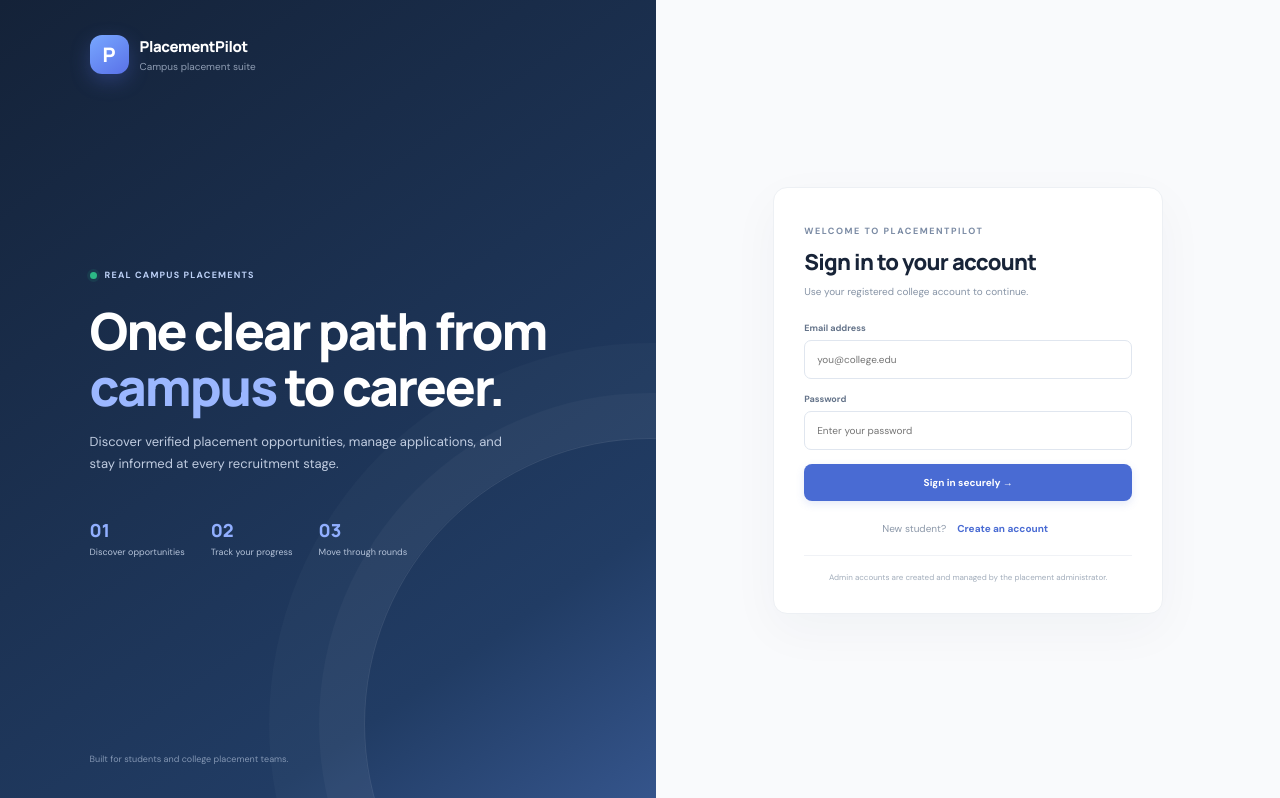
Test: PlacementPilot application flows (API mocked) › keeps portal navigation protected and logs an authenticated student out
Expected: the heading "Sign in to your account" is shown, [804,246,1036,276]
Type "student@example.test" into the field labelled "Email address" at coordinates (968, 359), box [804,340,1132,378]
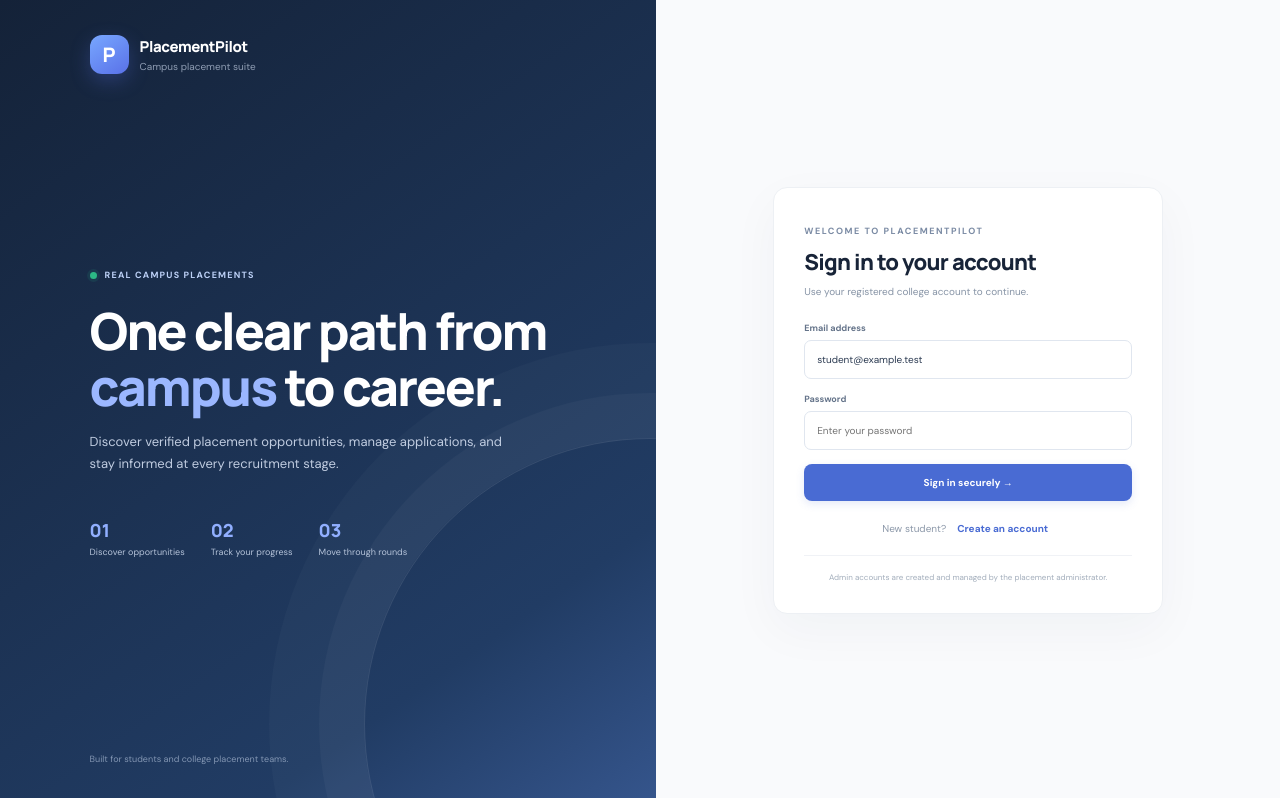
Type "SafeTestPassword123!" into the password field labelled "Password" at coordinates (968, 430), box [804,410,1132,450]
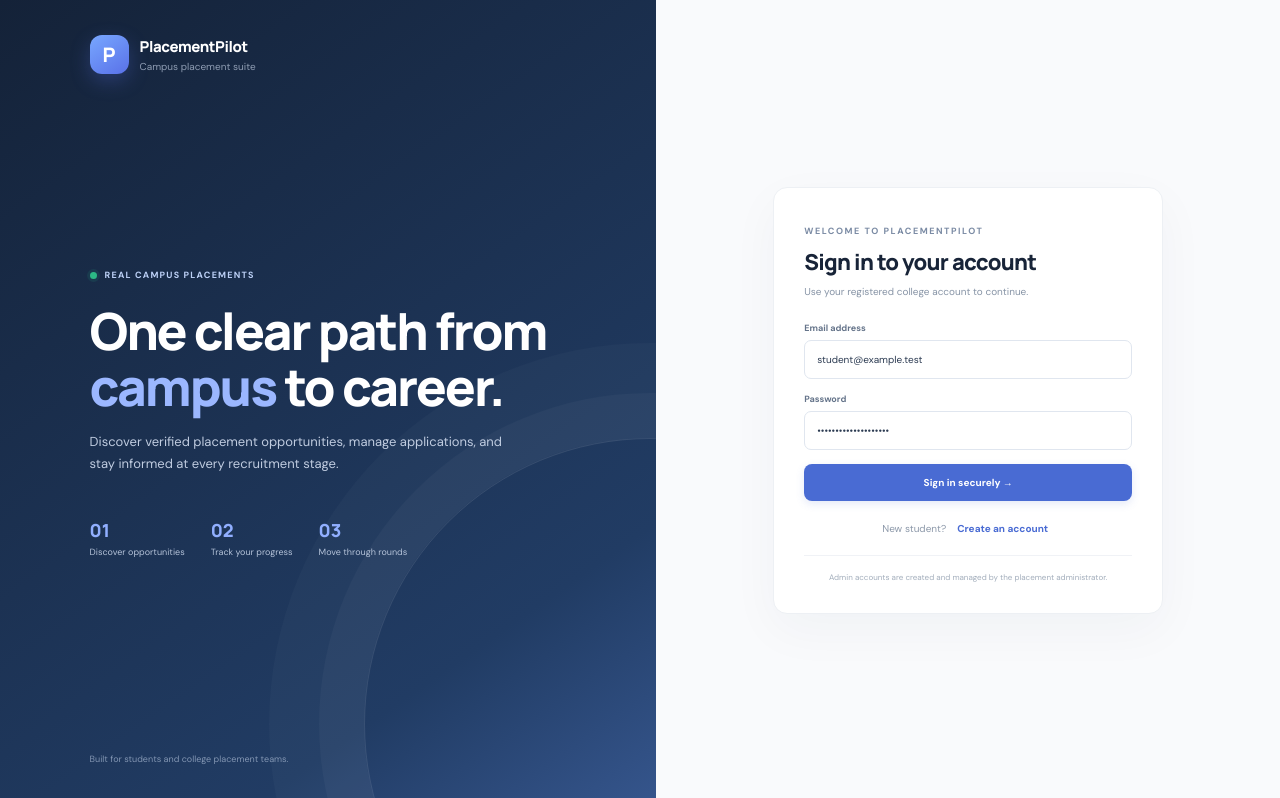
Click the button "Sign in securely →" at coordinates (968, 482), box [804,464,1132,500]
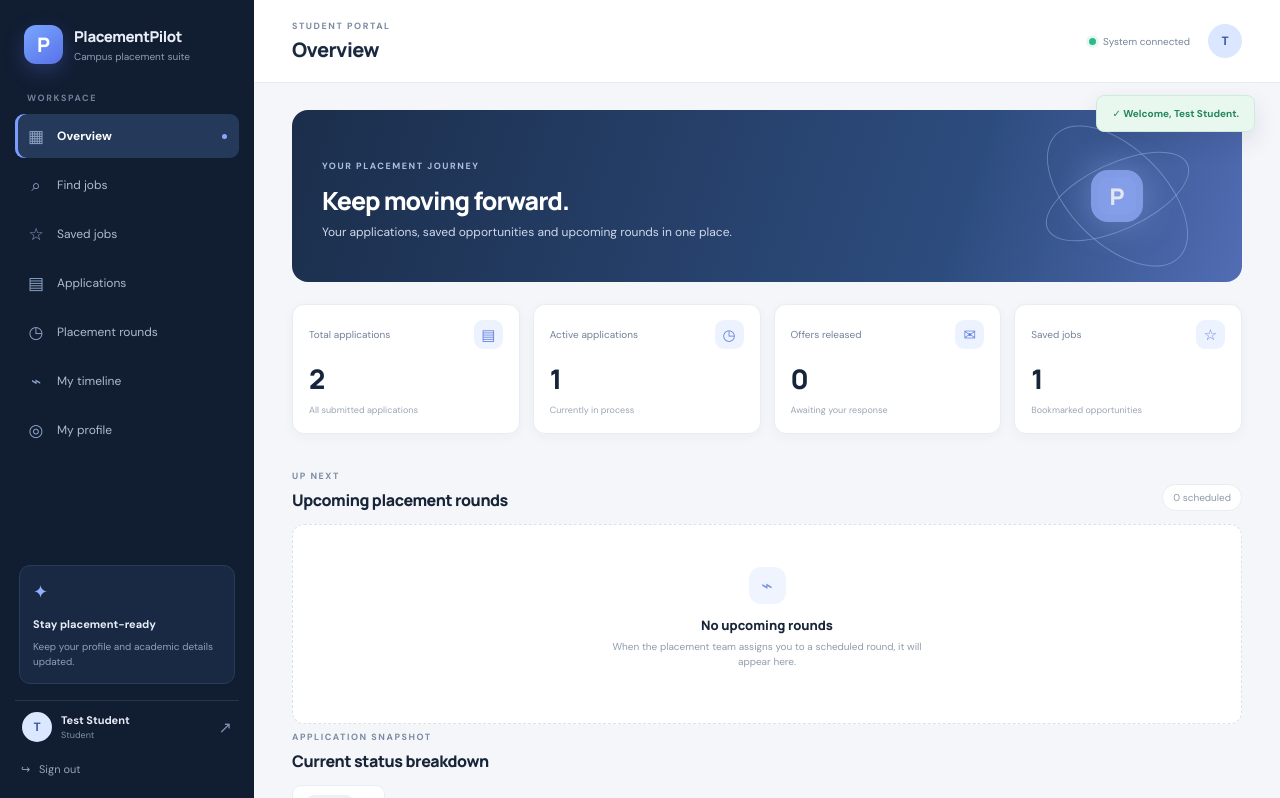
Expected: the heading "Keep moving forward." is shown, [322,182,569,218]
Expected: the text "2" below "Total applications" is shown, [309,360,325,397]
Expected: the button "⌕ Find jobs" is shown, [15,163,239,207]
Click the button "↪ Sign out" at coordinates (51, 769), box [21,755,80,783]
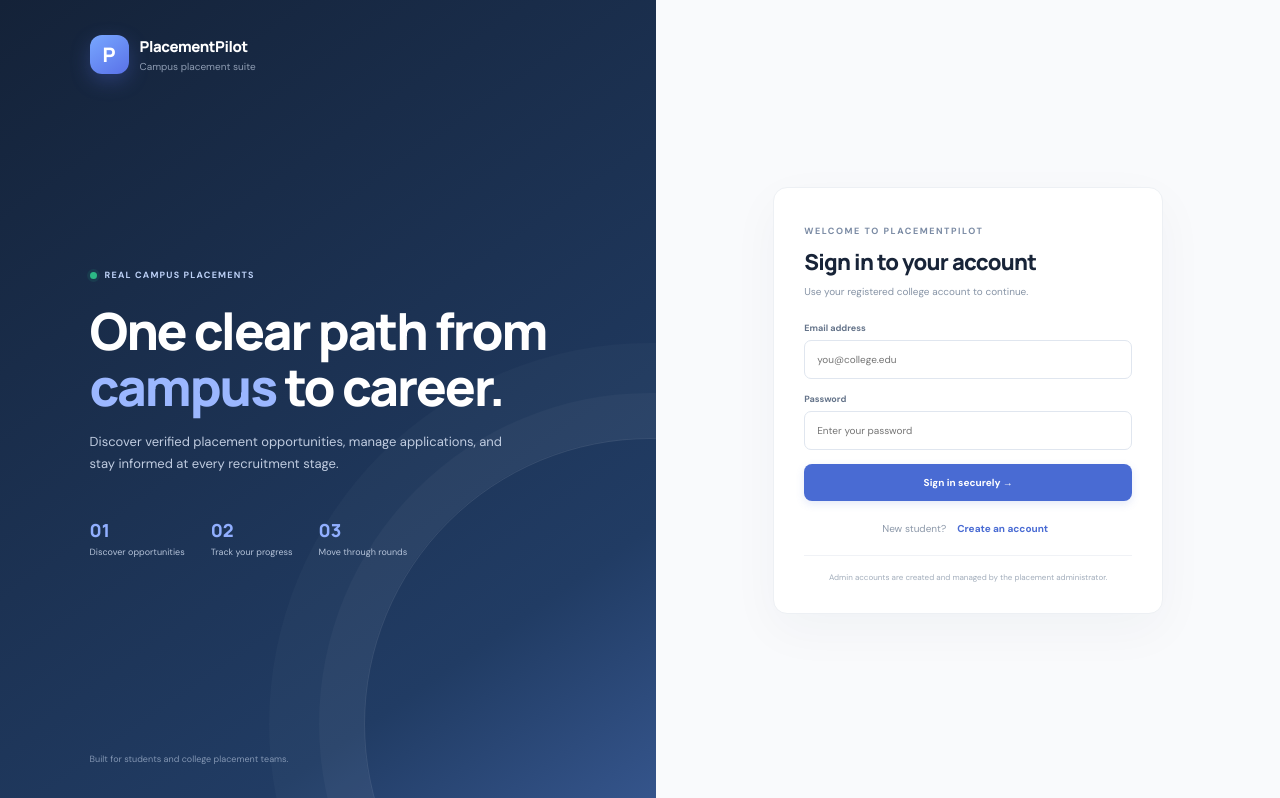
Expected: the heading "Sign in to your account" is shown, [804,246,1036,276]
Expected: the button "Find jobs" is gone
